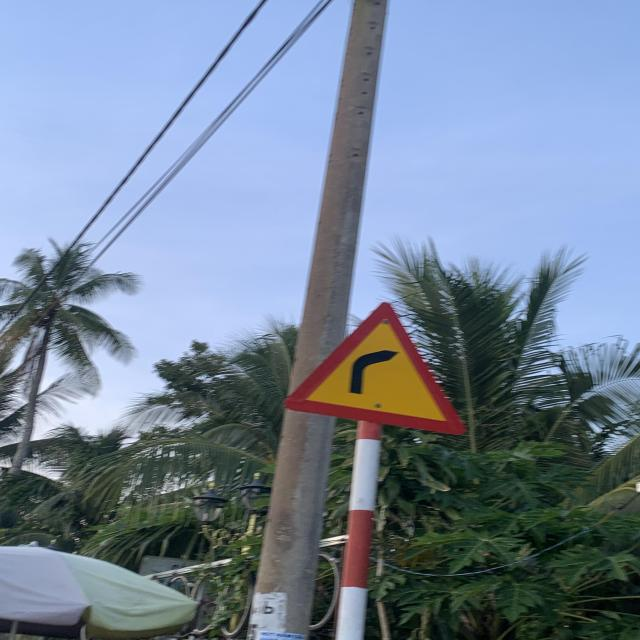Duong_Nguoi_Di_Bo_Cat_Ngang: (283, 296, 465, 438)
